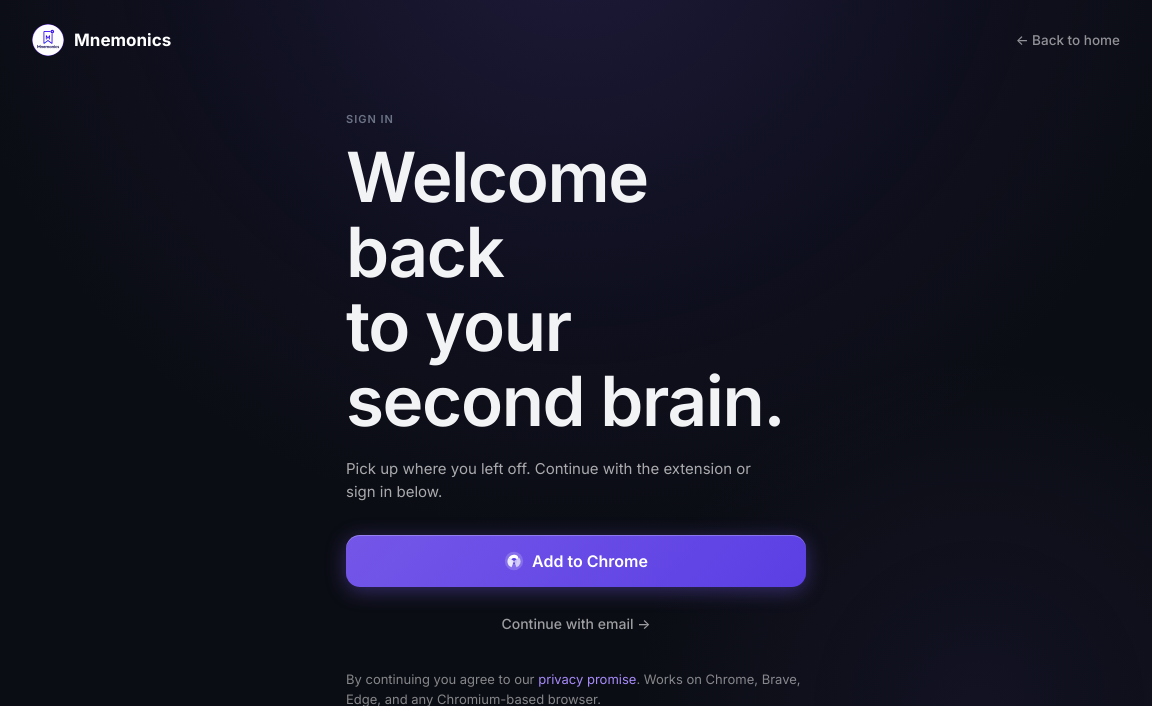
AuthLayout › opens the forgot-password step from the email panel
The image size is (1152, 706).
Click the button "Continue with email →".
click(576, 624)  # box [346,603,806,645]
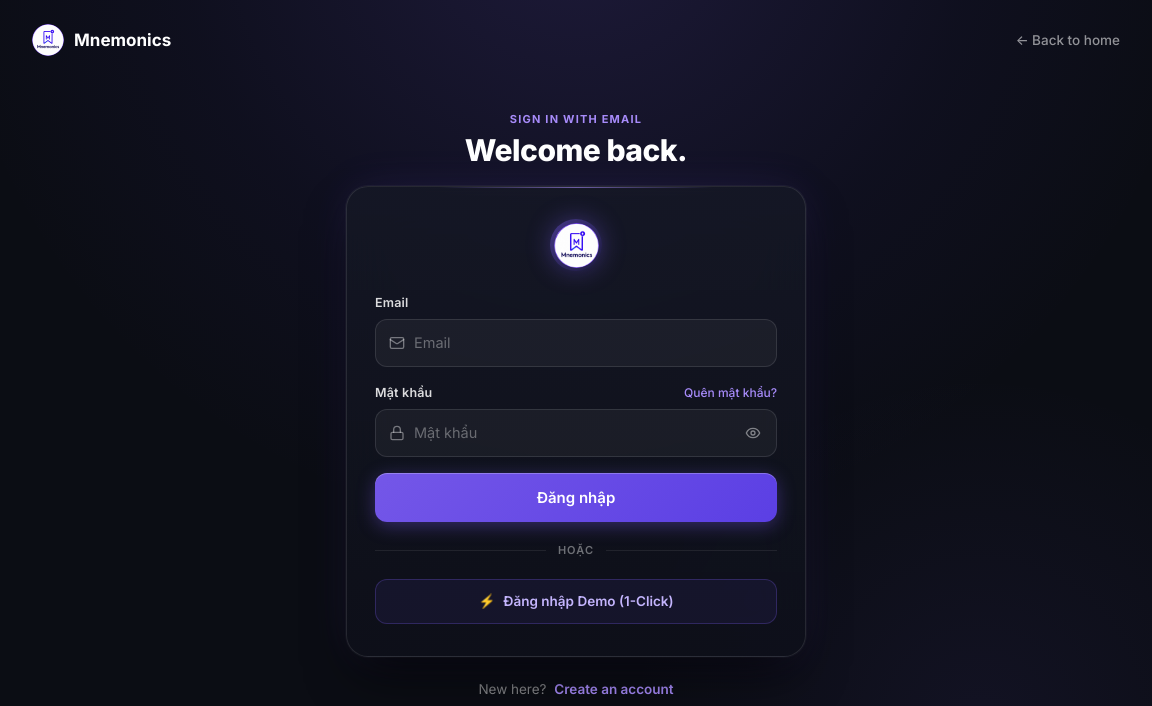
Click the button with test id "forgot-password-link".
click(730, 393)  # box [684,384,777,402]
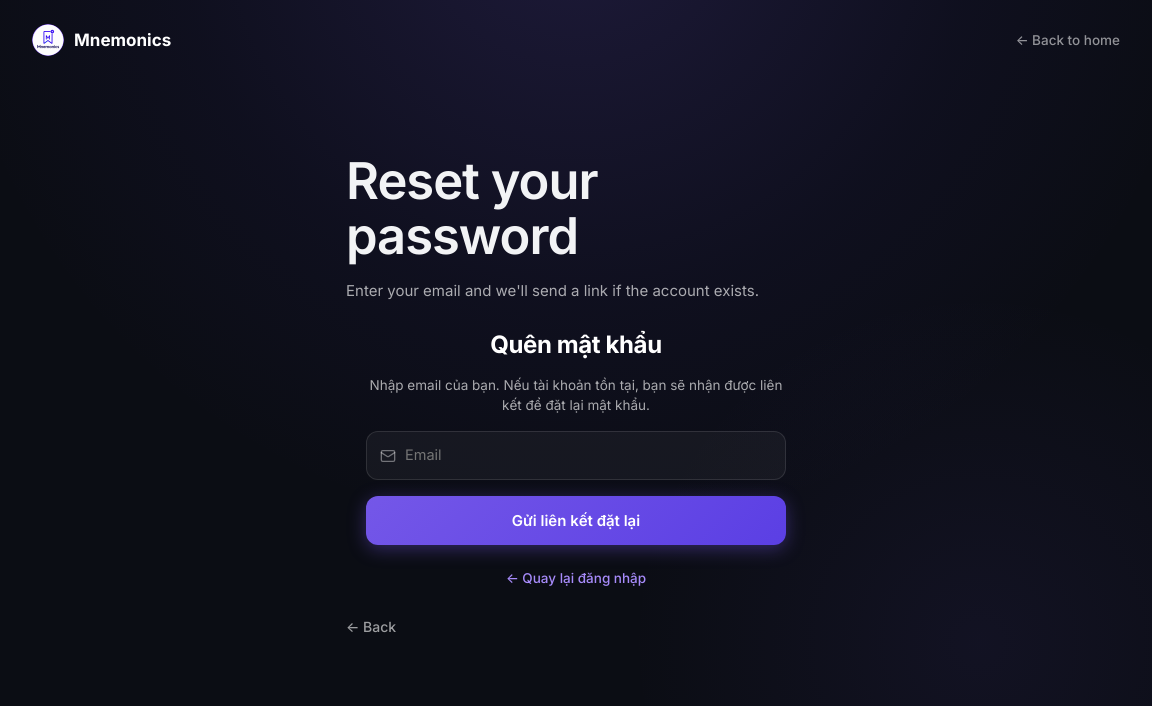
Expected: the heading "Reset your password" is shown, [346,150,598,266]
